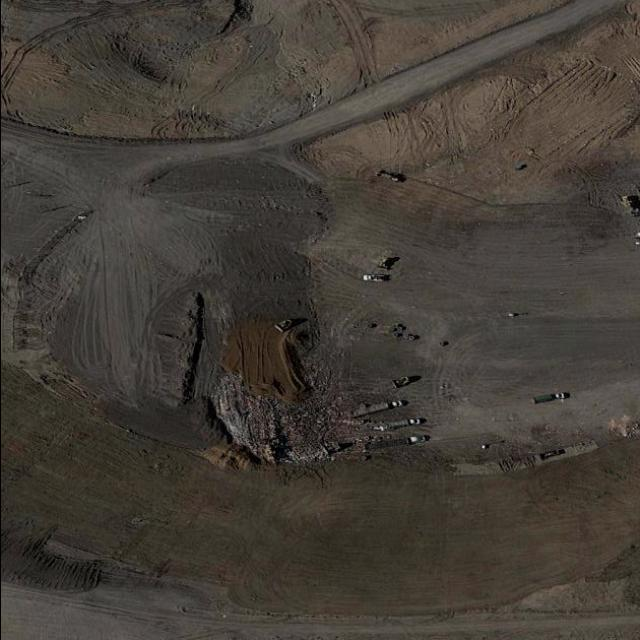dump_site: (212, 372, 357, 471)
